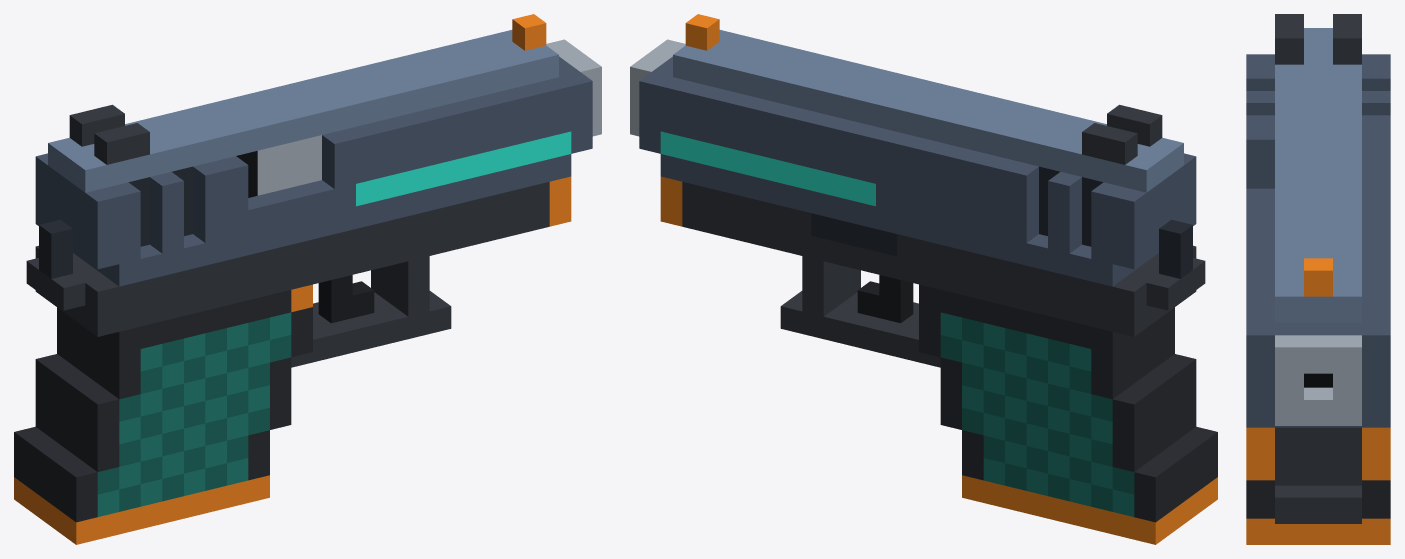
File: vx9_pistol.obj
3 renders of one model, left to right at view 1: azimuth 30°, elevation 25°; view 2: azimuth 150°, elevation 25°; view 3: azimuth 270°, elevation 25°, orthographic. The views are drawn at different scales.
Visible parts, largest first — view 1: vx9_pistol; view 2: vx9_pistol; view 3: vx9_pistol.
Part boxes in pixels (box(x1,y1,x2,y2)): vx9_pistol: box(14, 14, 601, 544); vx9_pistol: box(630, 14, 1217, 544); vx9_pistol: box(1246, 14, 1390, 544).
Size of the model in its own units: 0.5 by 0.34 by 0.1.
Materials: 1 (1 with a texture image).
